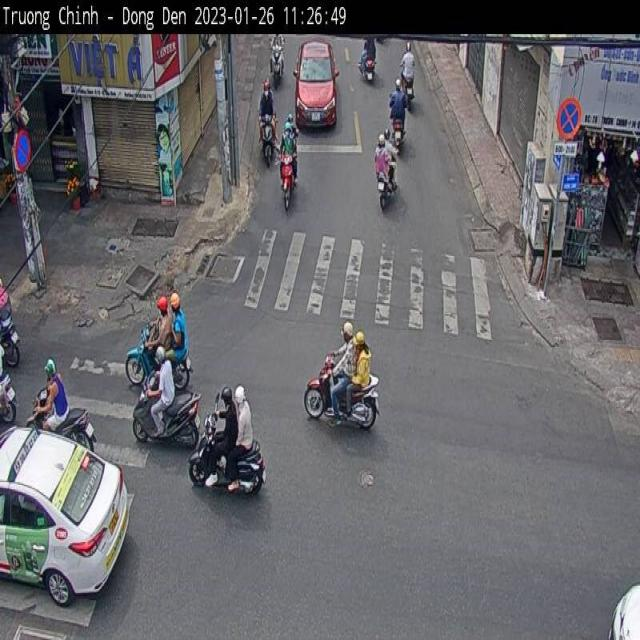with_helmet: (167, 274, 188, 325), (46, 350, 64, 386), (154, 283, 169, 326), (352, 316, 367, 358), (233, 369, 247, 412), (339, 314, 352, 350), (402, 41, 418, 68), (219, 376, 233, 406), (155, 345, 168, 372), (389, 80, 407, 98), (381, 117, 392, 144), (377, 126, 386, 154), (284, 117, 294, 141), (285, 106, 295, 130), (264, 80, 272, 100)
